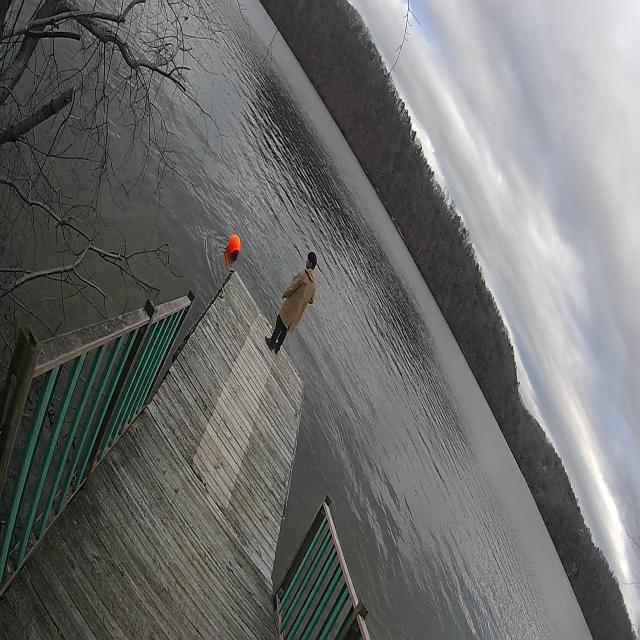Buoy: (227, 231, 242, 263)
